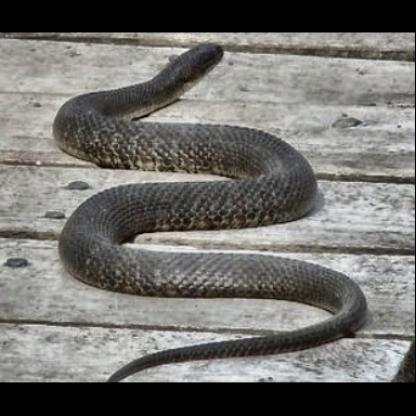Snake: (51, 38, 372, 382)
